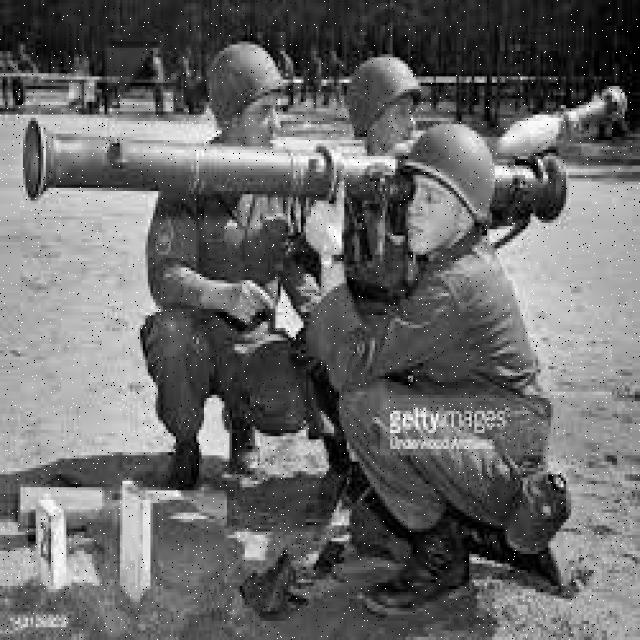bazooka: (15, 111, 572, 237)
